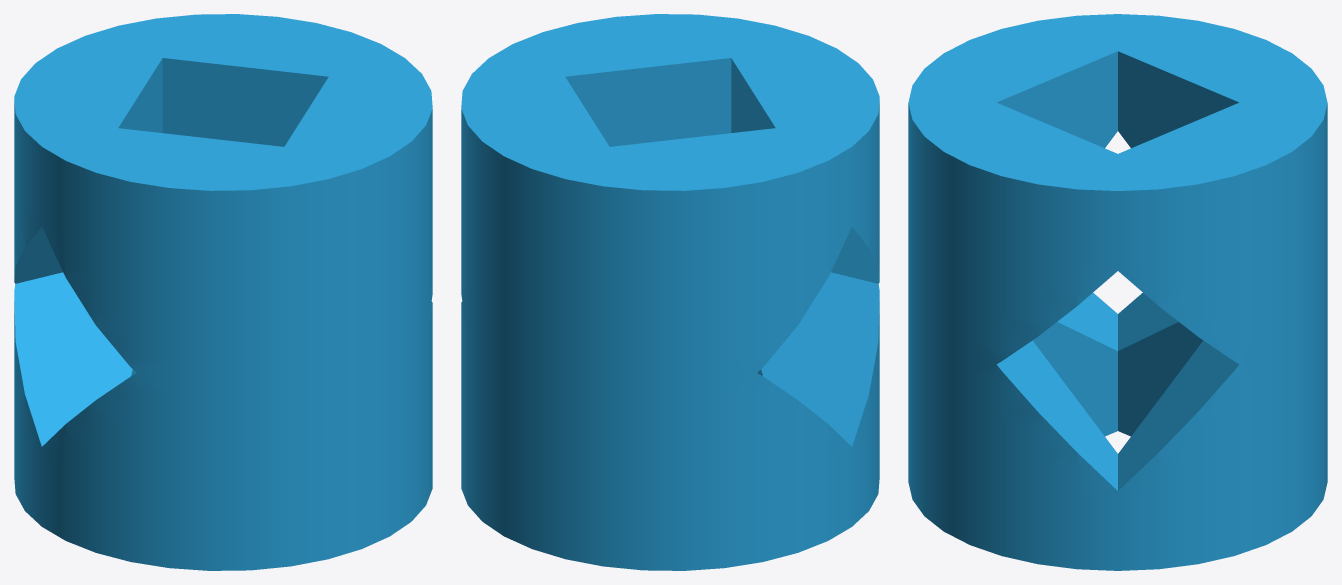
Rendered from var_16.glb.
The picture shows the model from 3 angles, left to right: view 1: azimuth 30°, elevation 25°; view 2: azimuth 150°, elevation 25°; view 3: azimuth 270°, elevation 25°; orthographic projection.
Parts seen in each view (by area): view 1: Cylinder; view 2: Cylinder; view 3: Cylinder.
Boxes of the visible parts, x1=… form: Cylinder: x1=14, y1=14, x2=432, y2=570; Cylinder: x1=461, y1=14, x2=879, y2=570; Cylinder: x1=908, y1=14, x2=1327, y2=570.
Size of the model in its own units: 2 by 2 by 2.
